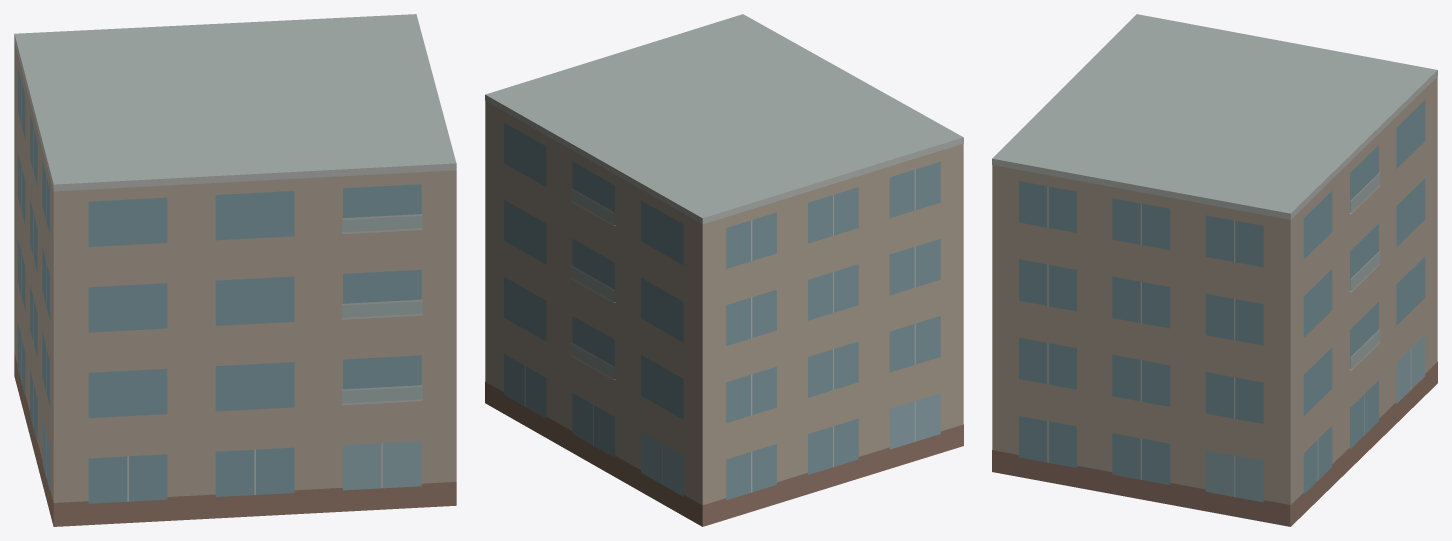
Rendered from survey-upis-32888601.glb.
3 renders of one model, left to right at view 1: azimuth 30°, elevation 25°; view 2: azimuth 150°, elevation 25°; view 3: azimuth 270°, elevation 25°, orthographic. The views are drawn at different scales.
Parts seen in each view (by area): view 1: survey-upis-32888601.tmp; view 2: survey-upis-32888601.tmp; view 3: survey-upis-32888601.tmp.
Boxes of the visible parts, x1,y1,x2,y2 form: survey-upis-32888601.tmp: (14,14,456,526); survey-upis-32888601.tmp: (485,14,963,526); survey-upis-32888601.tmp: (992,14,1437,526).
Bounding box in the file's own units: 16.68 × 12.2 × 15.74.
